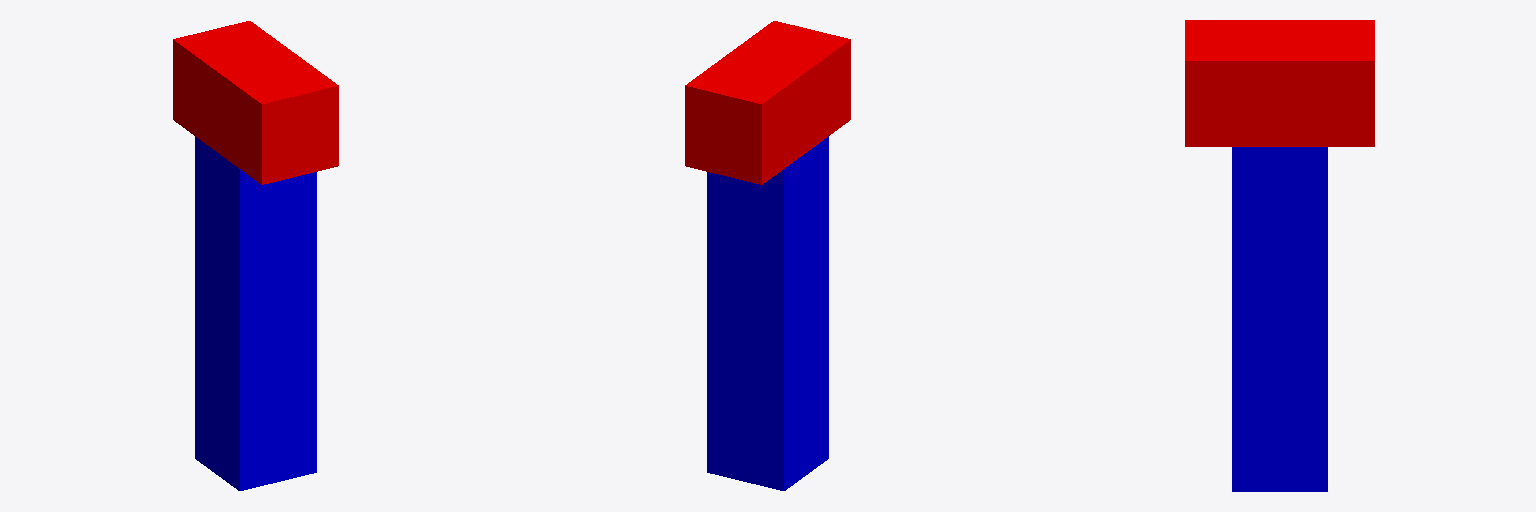
robot.urdf — t_shape_object:
<?xml version="1.0"?>
<robot name="t_shape_object">
  <!-- Base Link (Vertical Bar) -->
  <link name="base_link">
    <visual>
      <origin xyz="0 0 0.025" rpy="0 0 0"/>
      <geometry>
        <box size="0.025 0.025 0.1"/>
      </geometry>
      <material name="blue">
        <color rgba="0.0 0.0 1.0 1.0"/>
      </material>
    </visual>
    <collision>
      <origin xyz="0 0 0.025" rpy="0 0 0"/>
      <geometry>
        <box size="0.025 0.025 0.1"/>
      </geometry>
    </collision>
    <inertial>
      <origin xyz="0 0 0.025" rpy="0 0 0"/>
      <mass value="0.04"/>
      <inertia ixx="0.1" ixy="0.0" ixz="0.0" iyy="0.1" iyz="0.0" izz="0.1"/>
    </inertial>
  </link>

  Top Bar (Horizontal Bar)
  <link name="top_bar">
    <visual>
      <origin xyz="0 0 0.0725" rpy="0 0 0"/>
      <geometry>
        <box size="0.025 0.05 0.025"/> 
      </geometry>
      <material name="red">
        <color rgba="1.0 0.0 0.0 1.0"/>
      </material>
    </visual>
    <collision>
      <origin xyz="0 0 0.0725" rpy="0 0 0"/>
      <geometry>
        <box size="0.025 0.05 0.025"/>
      </geometry>
    </collision>
    <inertial>
      <origin xyz="0 0 0.0725" rpy="0 0 0"/>
      <mass value="0.25"/>
      <inertia ixx="0.1" ixy="0.0" ixz="0.0" iyy="0.1" iyz="0.0" izz="0.1"/>
    </inertial>
  </link>

  <joint name="base_to_top" type="fixed">
    <parent link="base_link"/>
    <child link="top_bar"/>
    <origin xyz="0 0 0.015" rpy="0 0 0"/> 
  </joint>
</robot>

--- Facts derived from the render (not from the file) ---
Views: 3 orthographic renders of the robot side by side, from view 1: azimuth 30°, elevation 25°; view 2: azimuth 150°, elevation 25°; view 3: azimuth 270°, elevation 25°.
Robot: t_shape_object — 2 links, 1 joints (1 fixed); root link base_link; default pose: every joint at zero.
Visible links, largest first — view 1: base_link, top_bar; view 2: base_link, top_bar; view 3: base_link, top_bar.
Link boxes in pixels (<box>): base_link: <box>195,136,316,490</box>; top_bar: <box>173,21,338,184</box>; base_link: <box>707,136,828,490</box>; top_bar: <box>685,21,850,184</box>; base_link: <box>1232,147,1327,491</box>; top_bar: <box>1185,20,1374,146</box>.
Bounding box of the posed robot: 0.025 × 0.05 × 0.125 m (x, y, z).
Geometry: primitives only (box / cylinder / sphere), no mesh files.